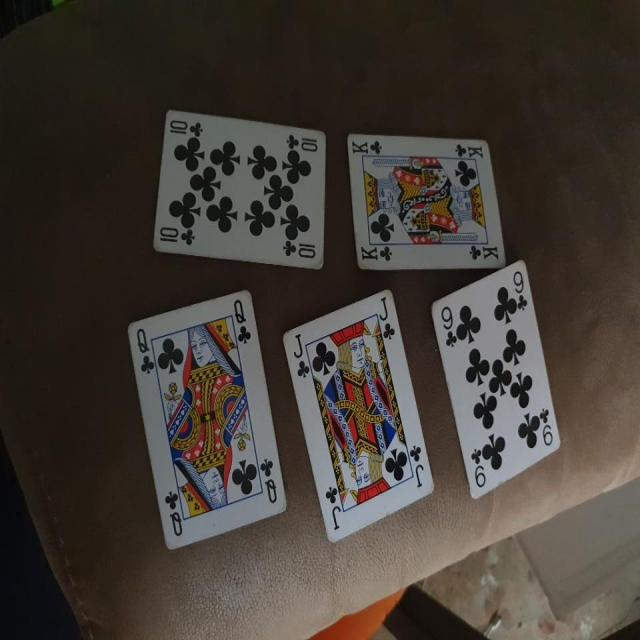10 Trefoils: (150, 110, 328, 270)
9 Trefoils: (428, 258, 562, 501)
J Trefoils: (281, 286, 434, 542)
K Trefoils: (347, 131, 507, 271)
Q Trefoils: (128, 286, 289, 553)
